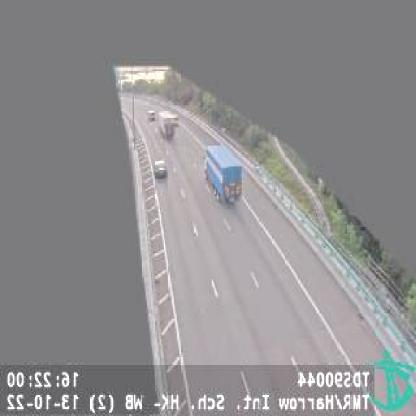Car: (154, 158, 167, 180), (146, 107, 157, 122)
Truck: (202, 142, 243, 205), (159, 110, 177, 140)
